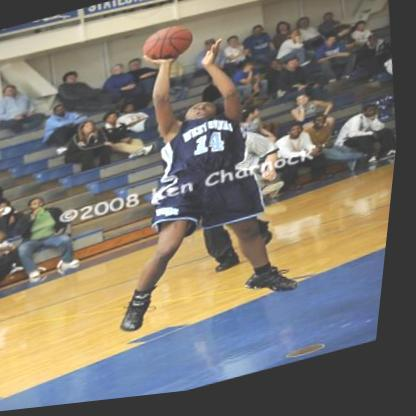basketball: (137, 23, 199, 71)
